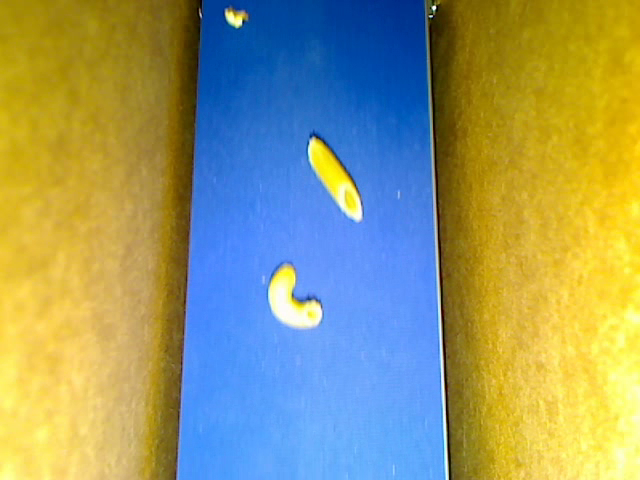elbow: (266, 262, 322, 327)
penne: (307, 134, 363, 222)
